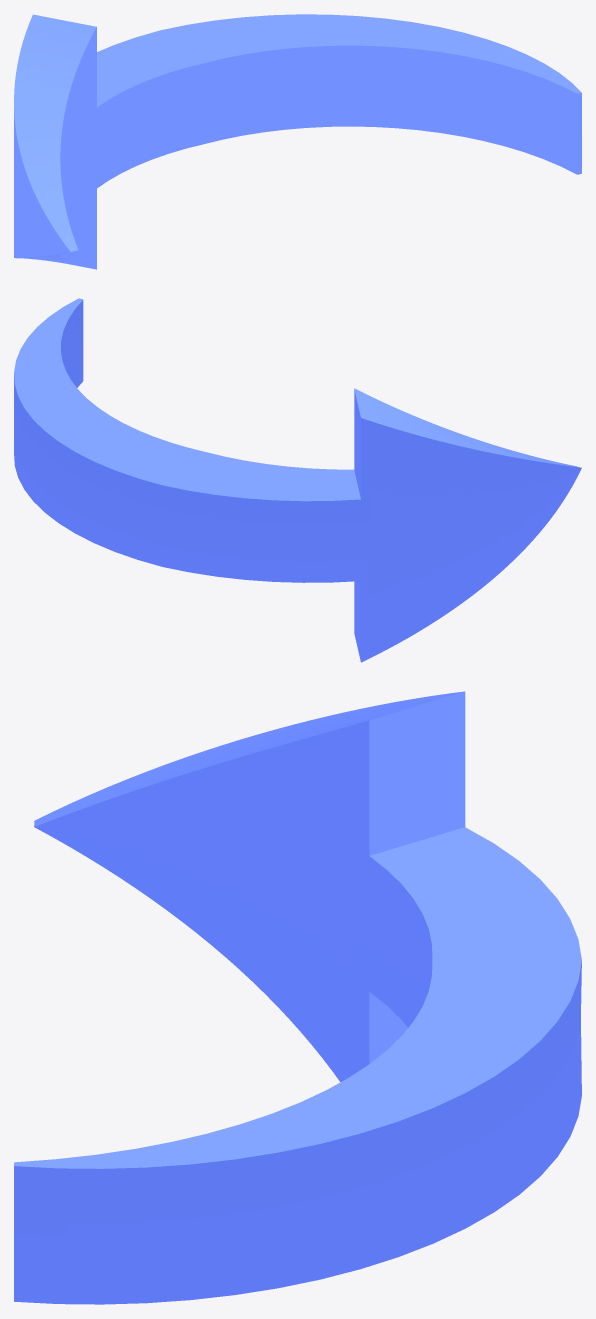
The model's file is anno_arrow_rotate_ccw.glb.
The picture shows the model from 3 angles, top to bottom: view 1: azimuth 30°, elevation 25°; view 2: azimuth 150°, elevation 25°; view 3: azimuth 270°, elevation 25°; orthographic projection. The views are drawn at different scales.
Visible parts, largest first — view 1: anno_arrow_rotate_ccw; view 2: anno_arrow_rotate_ccw; view 3: anno_arrow_rotate_ccw.
Boxes of the visible parts, x1,y1,x2,y2 form: anno_arrow_rotate_ccw: (14, 14, 581, 269); anno_arrow_rotate_ccw: (14, 298, 581, 662); anno_arrow_rotate_ccw: (14, 691, 581, 1304).
Size of the model in its own units: 0.132 by 0.06 by 0.0759.
